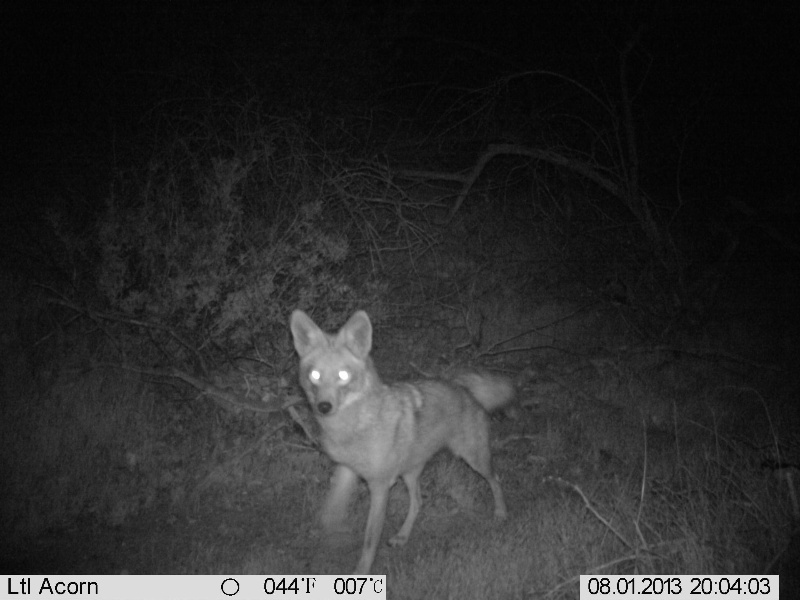coyote: (285, 307, 523, 576)
